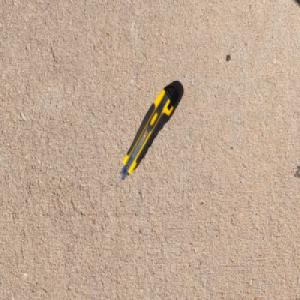Cutter: (119, 82, 181, 183)
